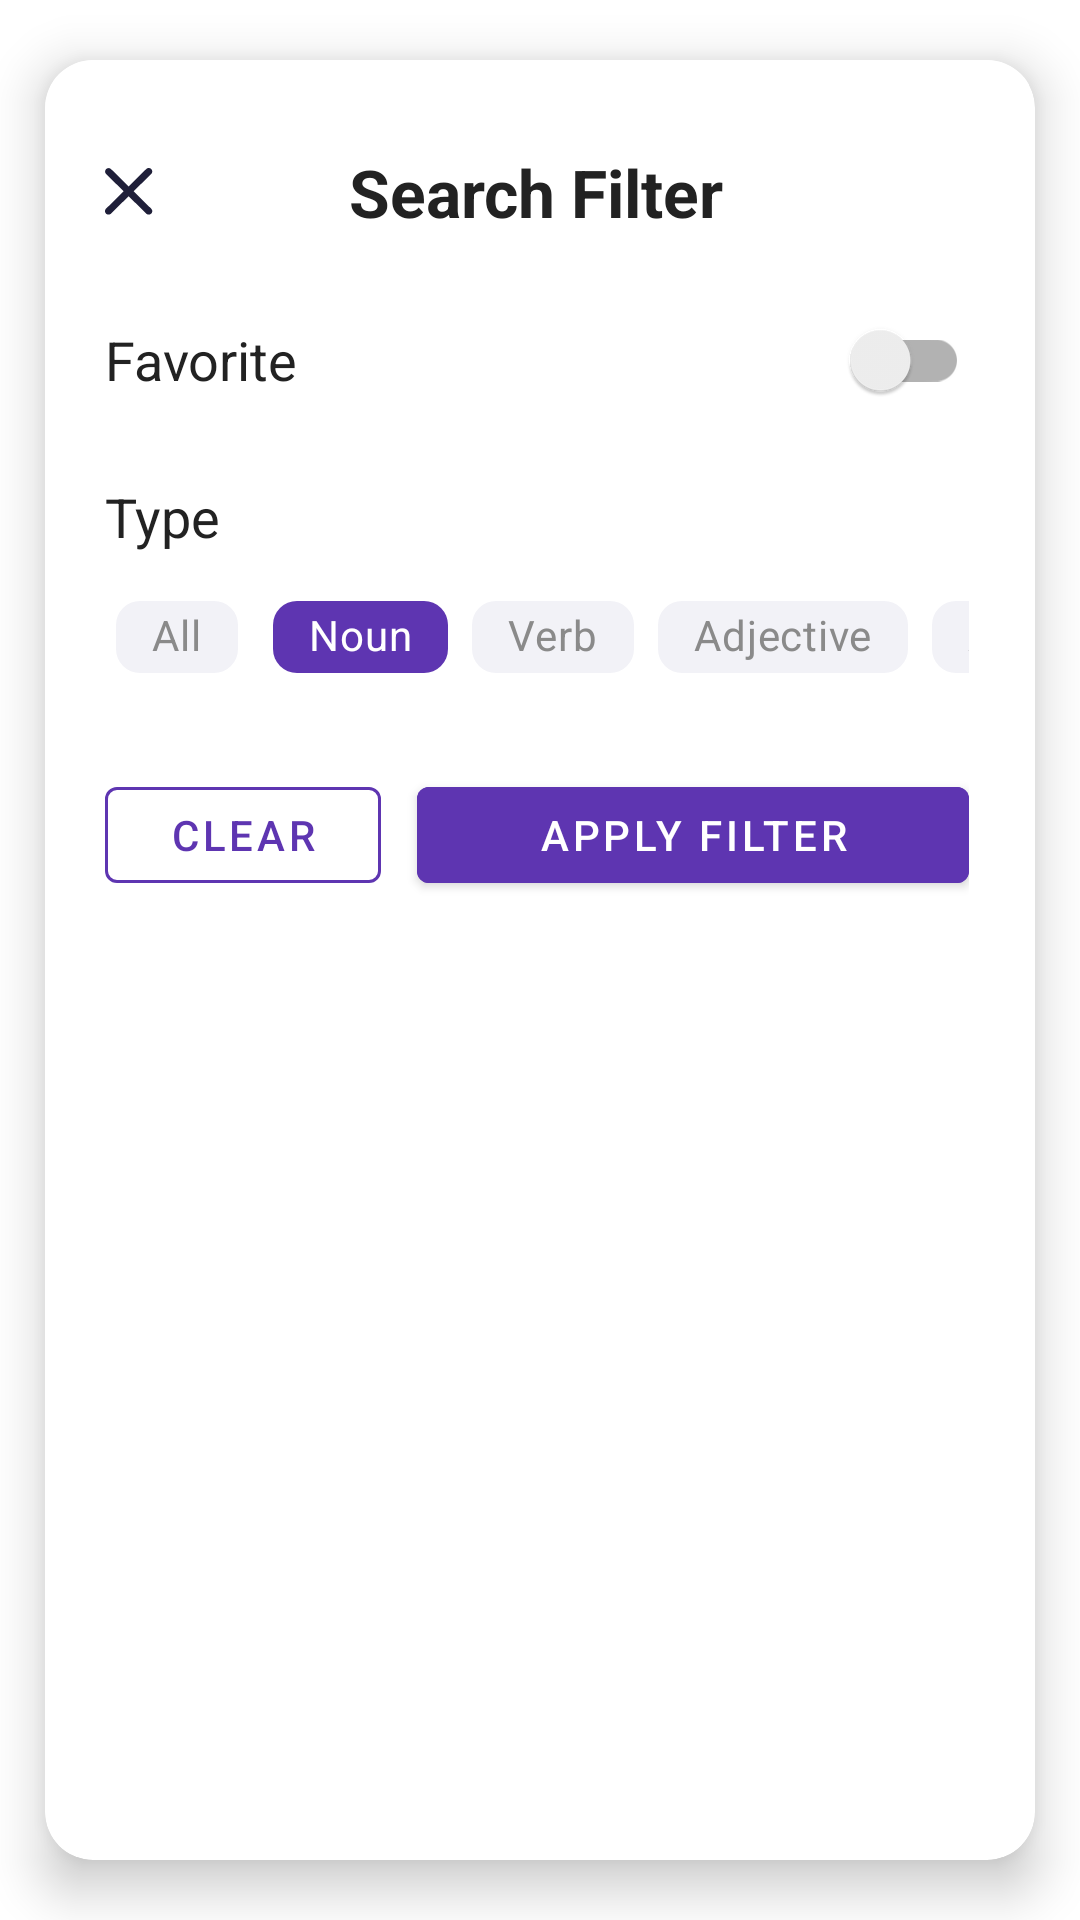

Icons on this 1080x1920 Android screen, each with its box as (x1, y1, x2, y2):
Close filter: (105, 168, 153, 215)
